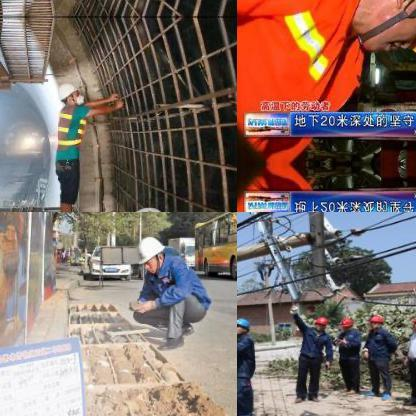Helmet: (351, 0, 415, 55), (136, 232, 166, 272), (56, 79, 82, 105), (237, 314, 250, 337), (311, 312, 327, 330), (368, 311, 382, 329), (339, 314, 353, 330), (409, 310, 415, 333)
